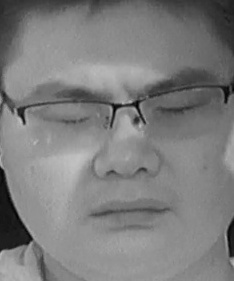blink: (150, 101, 194, 118), (59, 113, 94, 128)
glass: (132, 83, 225, 141), (23, 98, 115, 152)
mouth: (90, 193, 170, 235)
